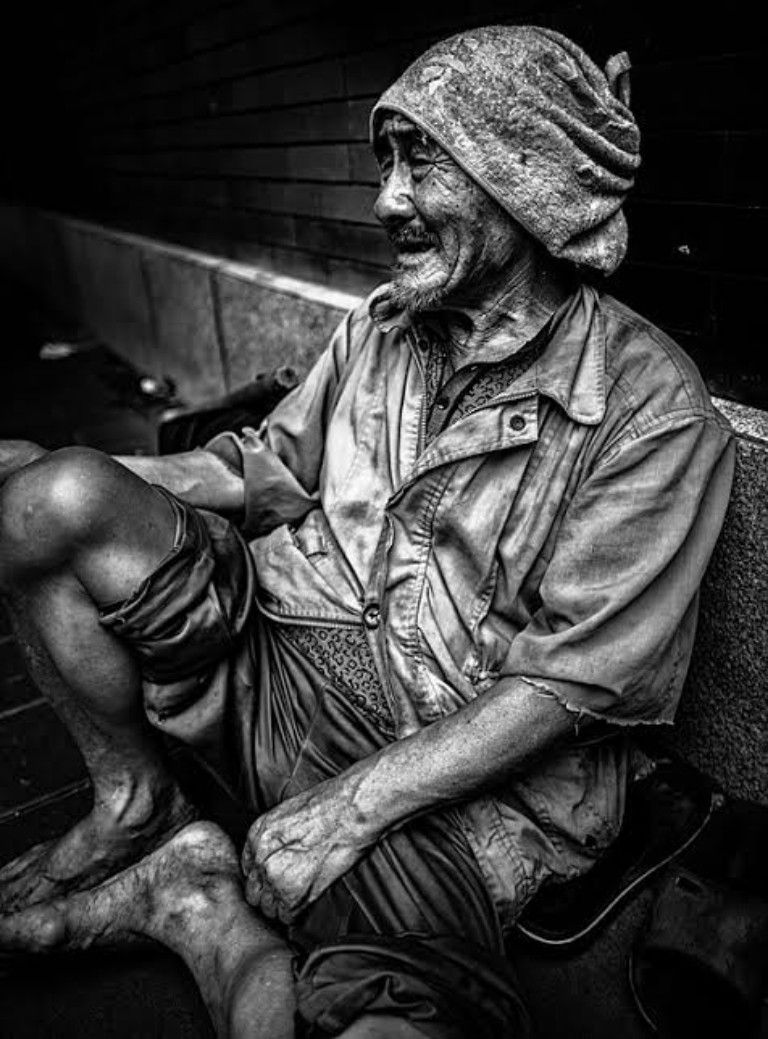gelandangan: (2, 6, 736, 1039)
